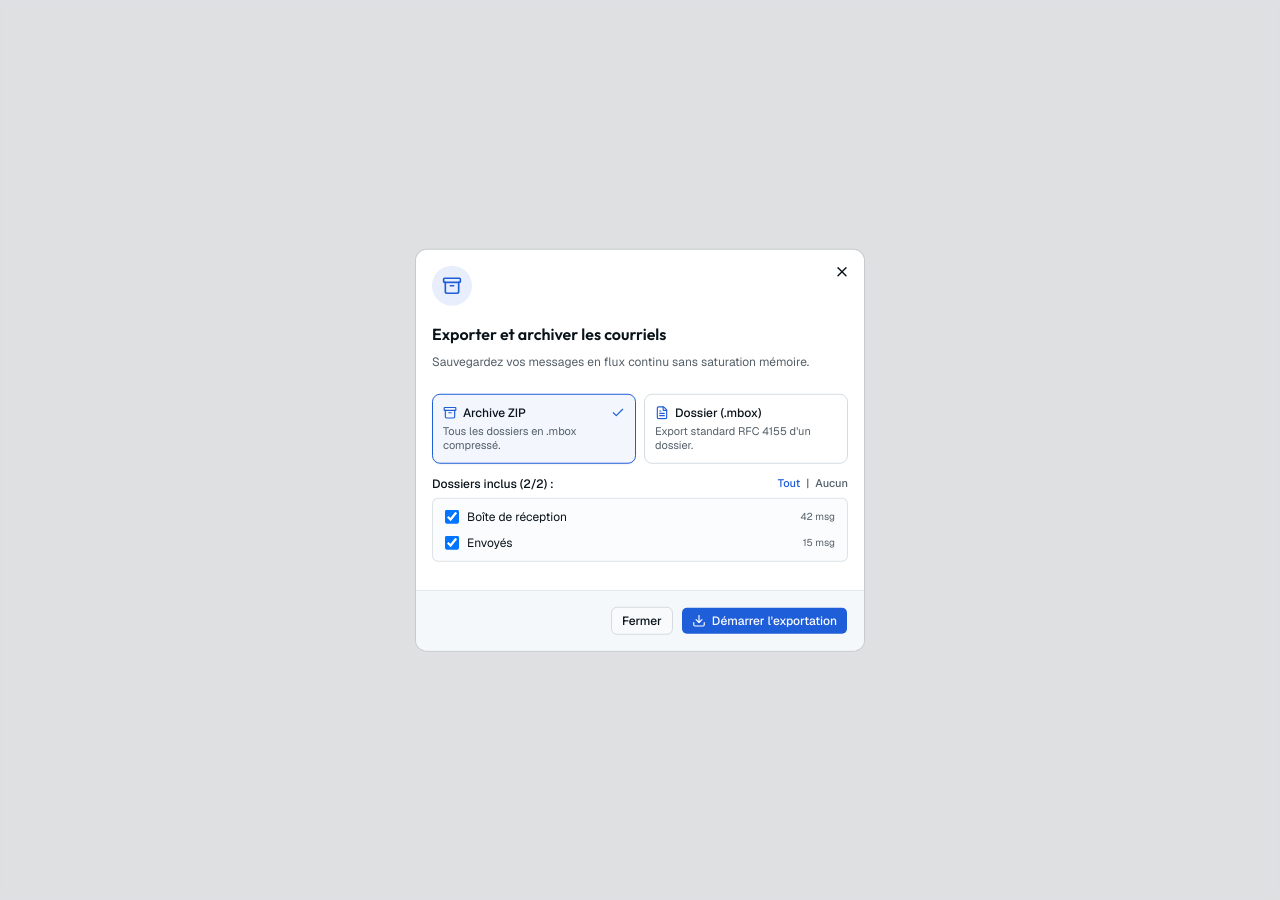
Test: ExportAccountDialog › bascule sur le format mbox et affiche le sélecteur de dossier
Click the text "Dossier (.mbox)" at (708, 413), box [655,405,762,421]
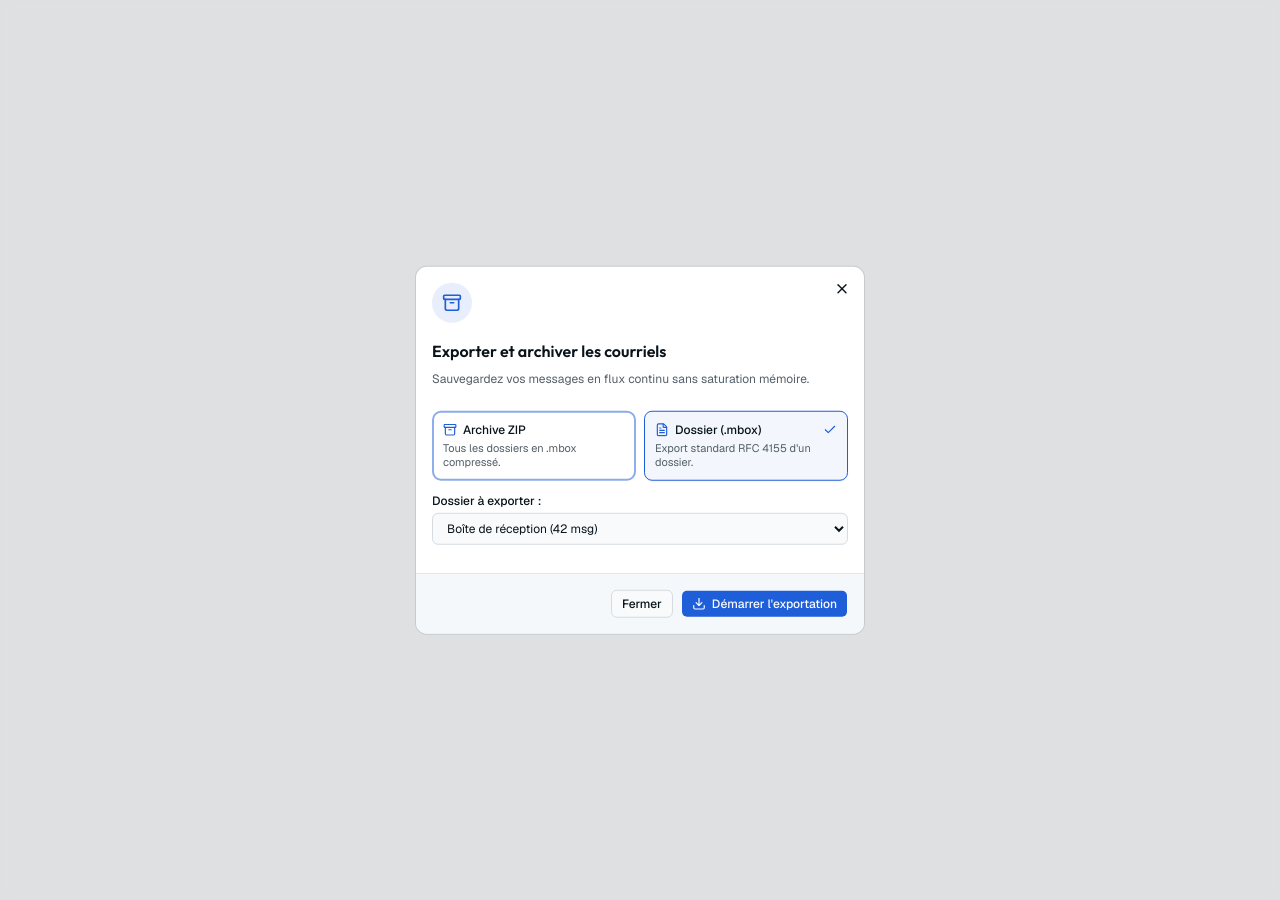
Now the text "Dossier à exporter :" is shown, box [432,492,541,508]
Now the dropdown is shown, box [432,512,848,544]
